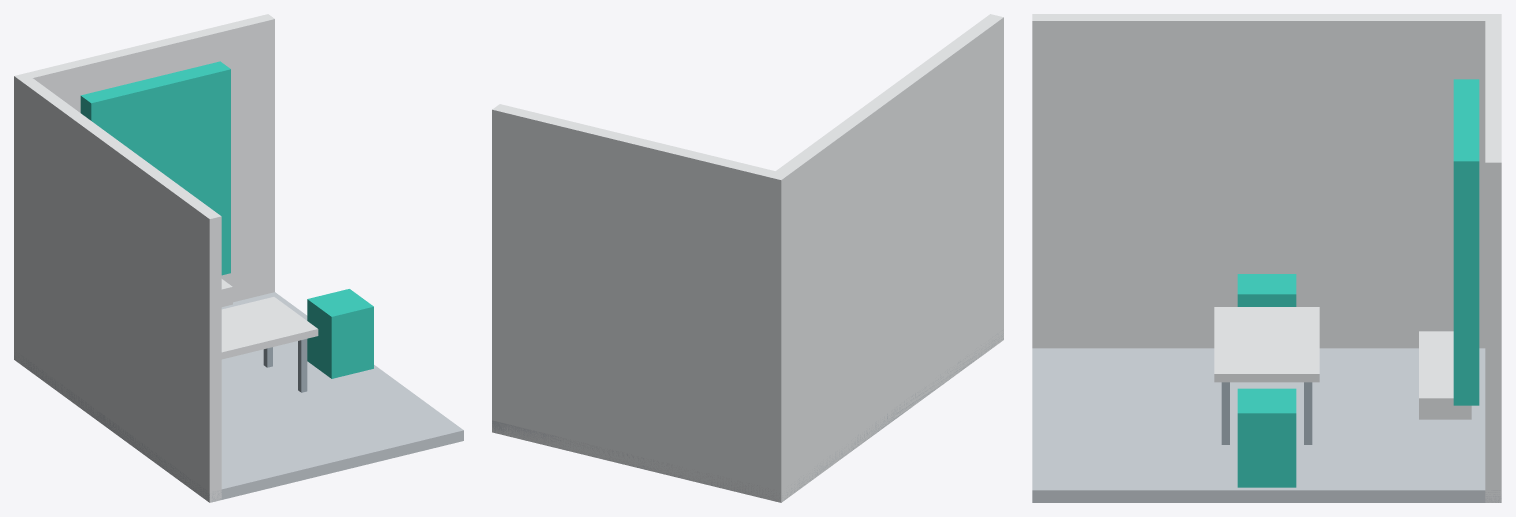
The picture shows the model from 3 angles, left to right: view 1: azimuth 30°, elevation 25°; view 2: azimuth 150°, elevation 25°; view 3: azimuth 270°, elevation 25°; orthographic projection. The views are drawn at different scales.
Visible parts, largest first — view 1: Exhibition Booth Concept; view 2: Exhibition Booth Concept; view 3: Exhibition Booth Concept.
Boxes of the visible parts, box(x1,y1,x2,y2) form: Exhibition Booth Concept: box(14, 14, 463, 502); Exhibition Booth Concept: box(492, 14, 1003, 502); Exhibition Booth Concept: box(1032, 14, 1501, 502).
Size of the model in its own units: 3 by 3.2 by 4.
